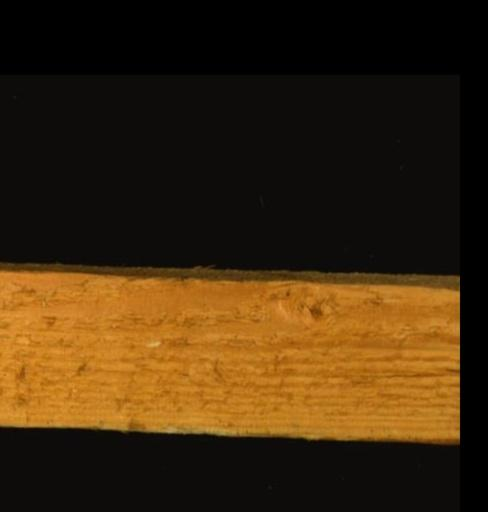small_knot: (298, 290, 344, 326)
